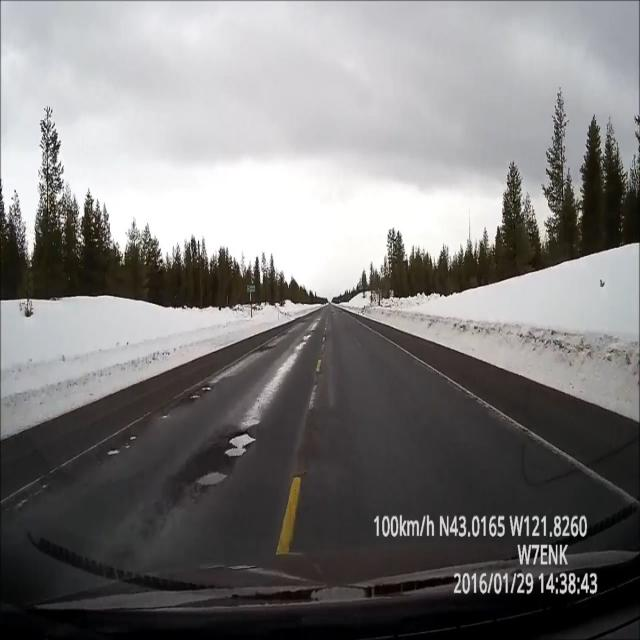Pothole: (192, 417, 261, 508)
